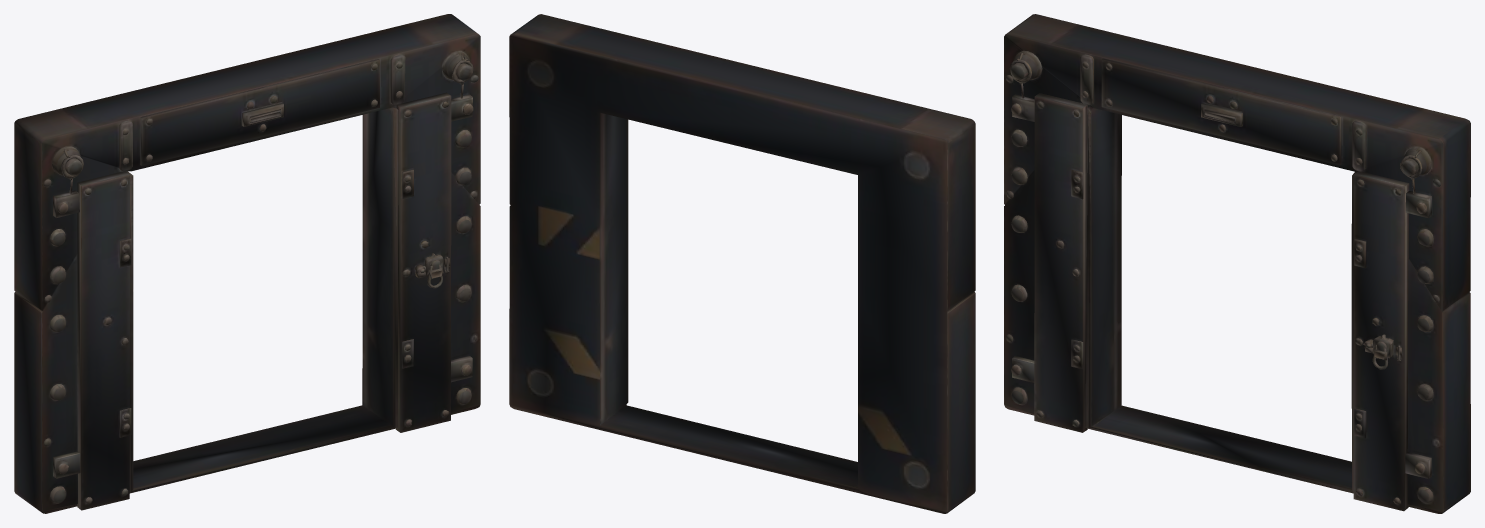
Rendered from security-bulkhead-frame.glb.
3 views of the same model, side by side, from view 1: azimuth 30°, elevation 25°; view 2: azimuth 150°, elevation 25°; view 3: azimuth 330°, elevation 25° (orthographic).
Bounding box in the file's own units: 1 × 0.8185 × 0.1489.
Materials: 1 (1 with a texture image).
